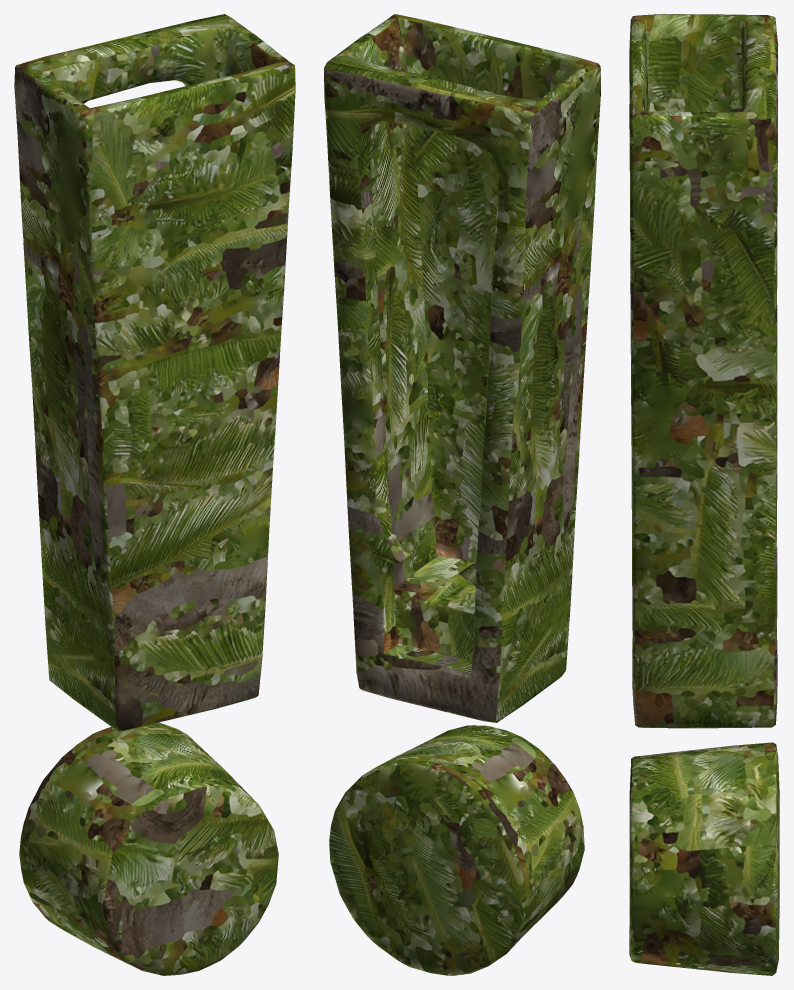
File: gantanhao_01.fbx
3 renders of one model, left to right at view 1: azimuth 30°, elevation 25°; view 2: azimuth 150°, elevation 25°; view 3: azimuth 270°, elevation 25°, orthographic.
Parts seen in each view (by area): view 1: mesh_node; view 2: mesh_node; view 3: mesh_node.
Boxes of the visible parts, <box> form: mesh_node: <box>14,14,295,975</box>; mesh_node: <box>324,14,600,975</box>; mesh_node: <box>629,14,779,975</box>.
Bounding box in the file's own units: 0.4416 × 1.77 × 0.2681.
